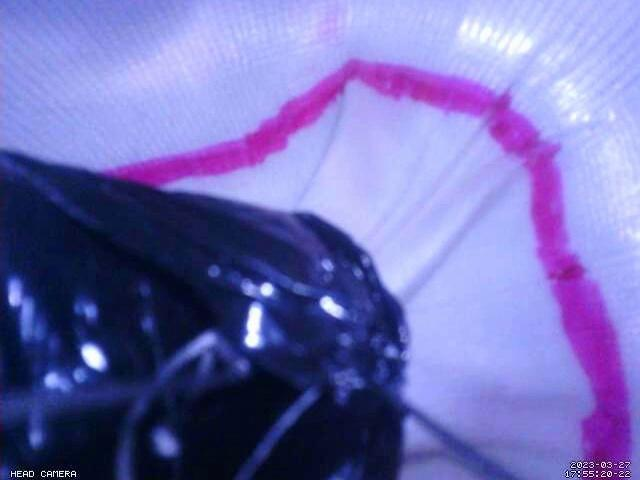red-circle: (100, 57, 633, 480)
